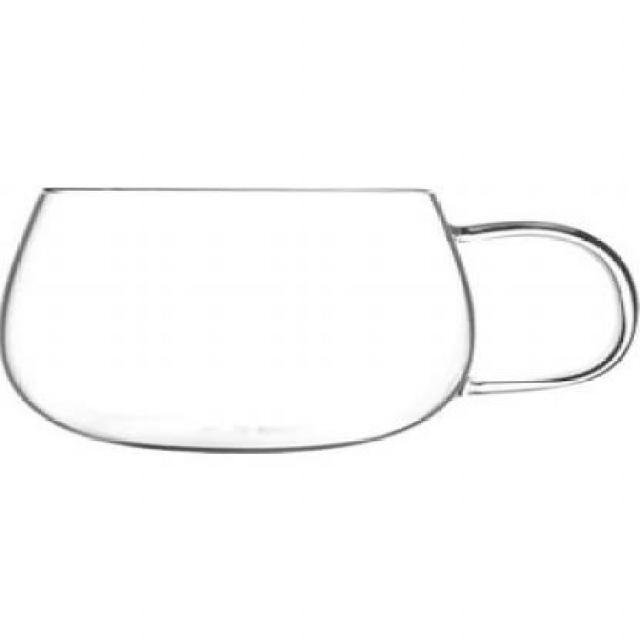taza: (0, 164, 637, 463)
